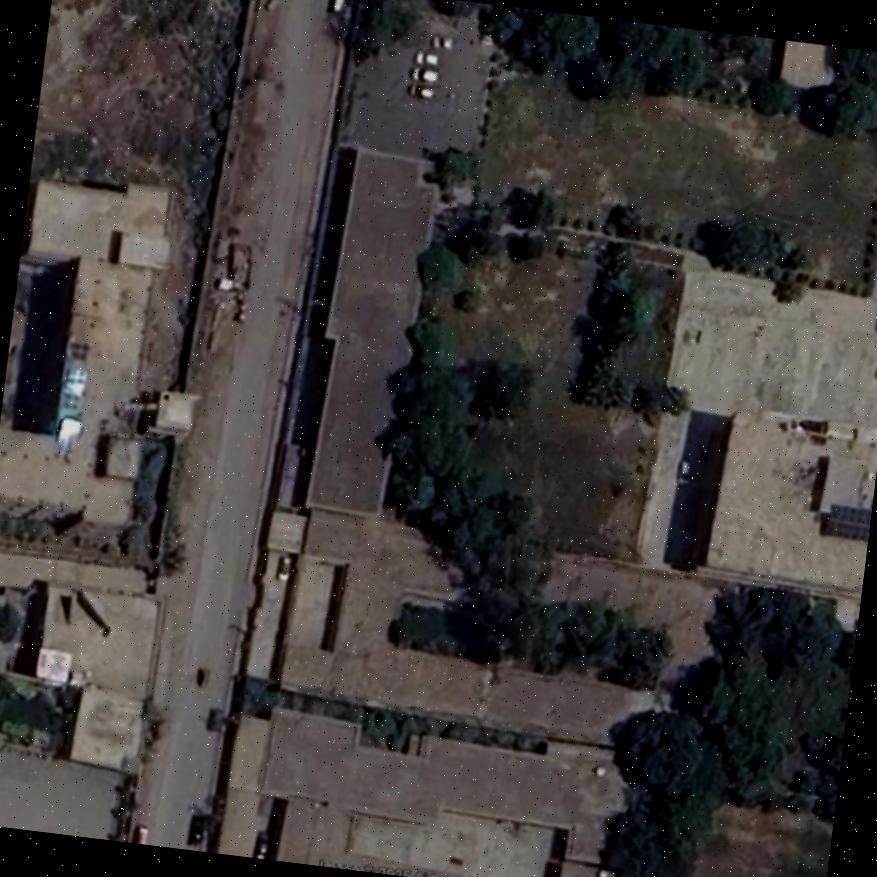Solarpanel: (824, 505, 870, 541)
